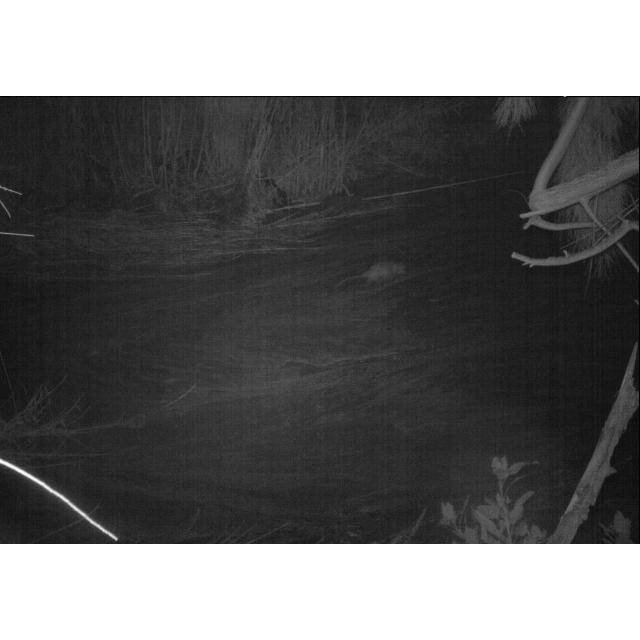animals: (338, 258, 409, 290)
